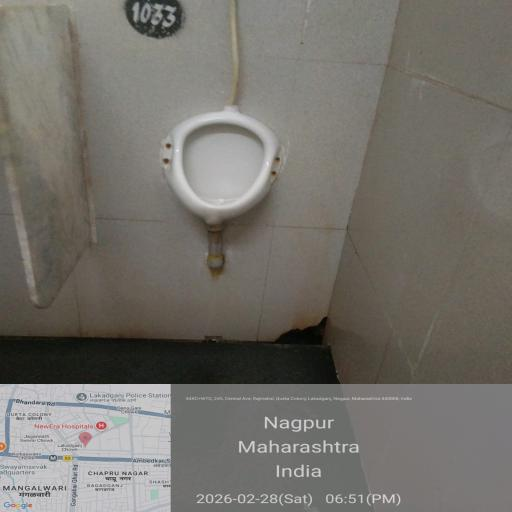clean_floor: (276, 18, 512, 276), (0, 15, 157, 292)
clean_urinal: (166, 121, 263, 217)
partial_dirty_floor: (0, 283, 505, 397)
